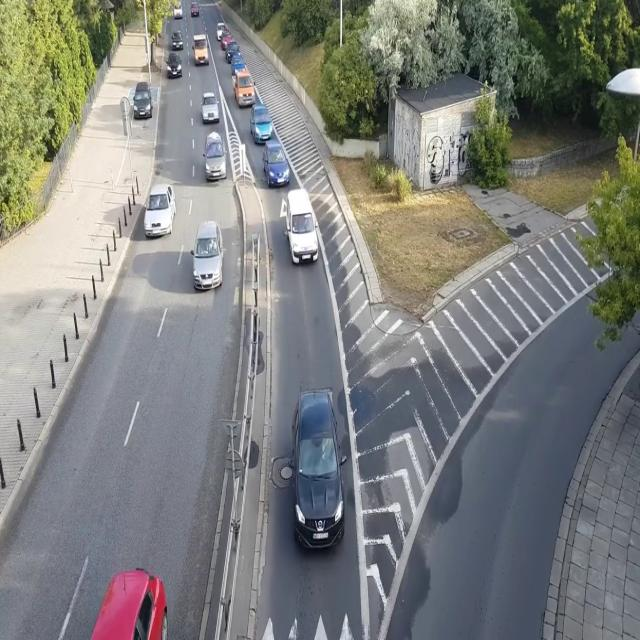car: (283, 386, 349, 556), (83, 566, 168, 640), (190, 217, 224, 290), (144, 182, 176, 238), (260, 139, 292, 188), (202, 132, 228, 181), (249, 103, 275, 144), (132, 83, 154, 119), (200, 91, 220, 124), (166, 53, 183, 80), (224, 41, 241, 61), (230, 55, 246, 75), (170, 30, 184, 51), (219, 31, 233, 47), (189, 2, 200, 19), (173, 2, 184, 19), (216, 23, 226, 40)
truck: (230, 69, 256, 107)
van: (284, 190, 319, 264), (192, 34, 210, 68)
